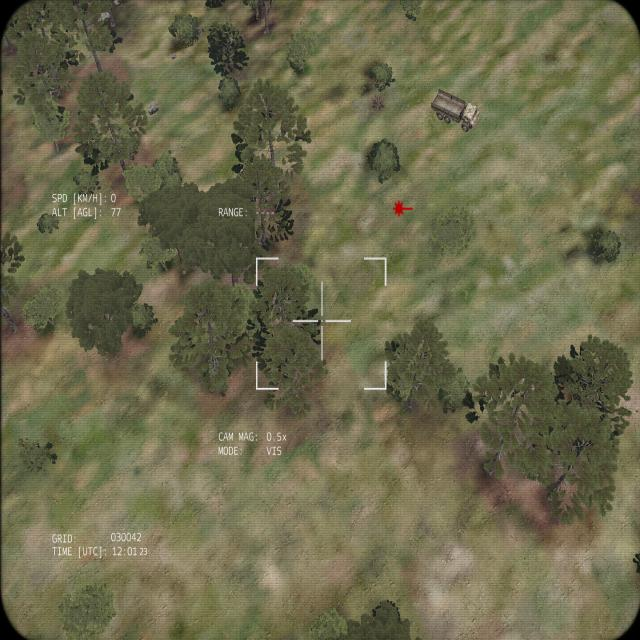truck: (430, 88, 480, 134)
